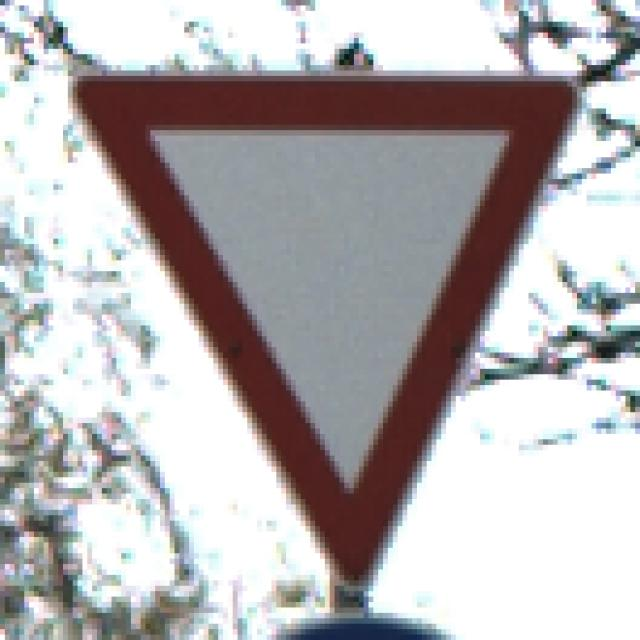Give Way: (59, 61, 588, 587)
